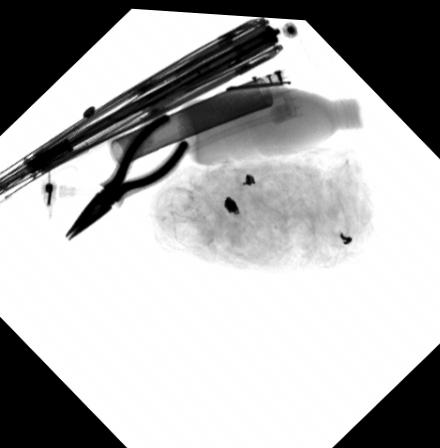Pliers: (62, 108, 189, 240)
